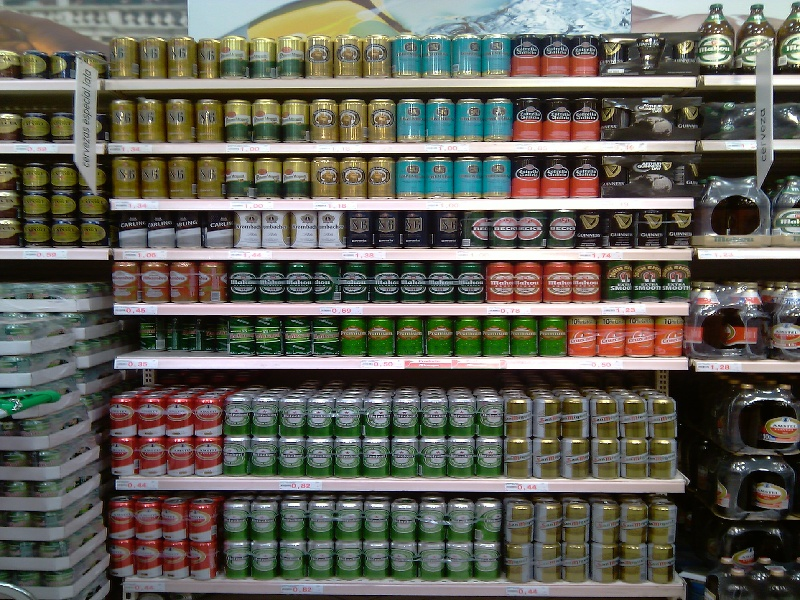beer: (509, 29, 545, 80), (395, 97, 430, 147), (540, 33, 575, 82), (420, 32, 453, 83), (512, 95, 546, 144), (449, 30, 483, 79), (198, 260, 232, 309), (482, 32, 515, 81), (568, 32, 601, 81), (388, 32, 421, 80), (308, 98, 341, 146), (166, 32, 199, 80), (222, 97, 253, 148), (453, 97, 488, 142), (426, 96, 457, 145), (217, 35, 250, 80), (195, 98, 225, 147), (138, 98, 168, 147), (543, 96, 574, 143), (573, 96, 602, 145), (340, 98, 370, 145), (166, 98, 197, 142), (252, 97, 281, 144), (484, 97, 514, 142), (248, 35, 278, 80), (277, 33, 306, 78), (169, 258, 196, 306), (283, 100, 310, 146), (111, 156, 140, 198)
